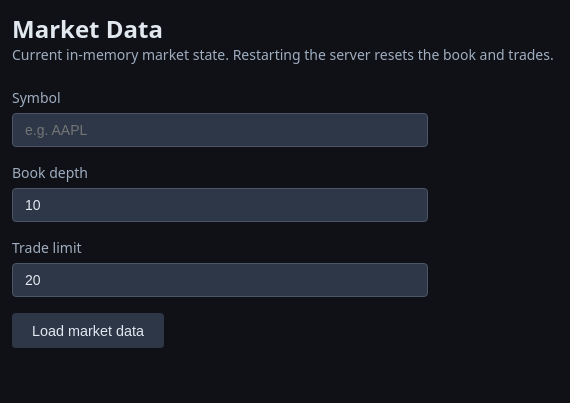
Scenario: MarketView – load behavior › shows loading text while fetch is pending
Type "AAPL" into the field labelled "Symbol". click: (220, 130)
box: [12,113,428,147]
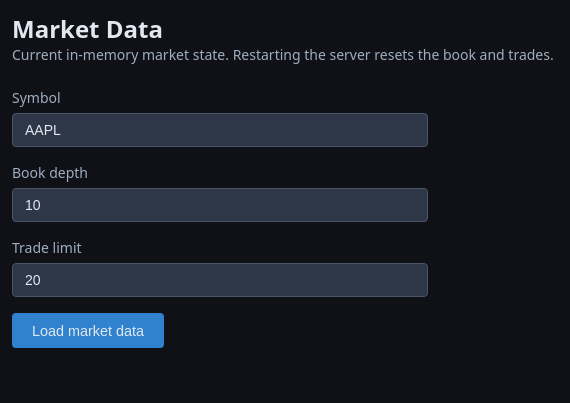
Click the button. click: click(88, 331)
box: [12,313,164,348]
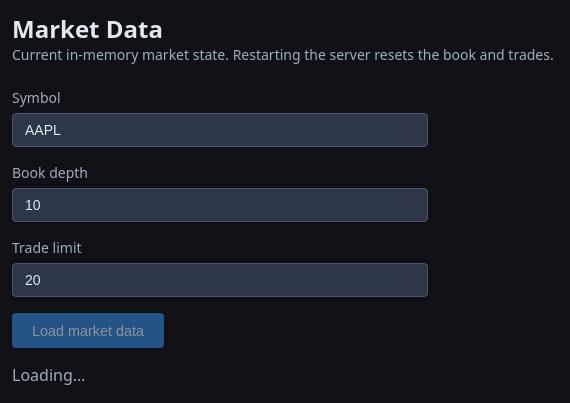
expect the text "Loading…" is shown: met, box [12,364,85,386]
